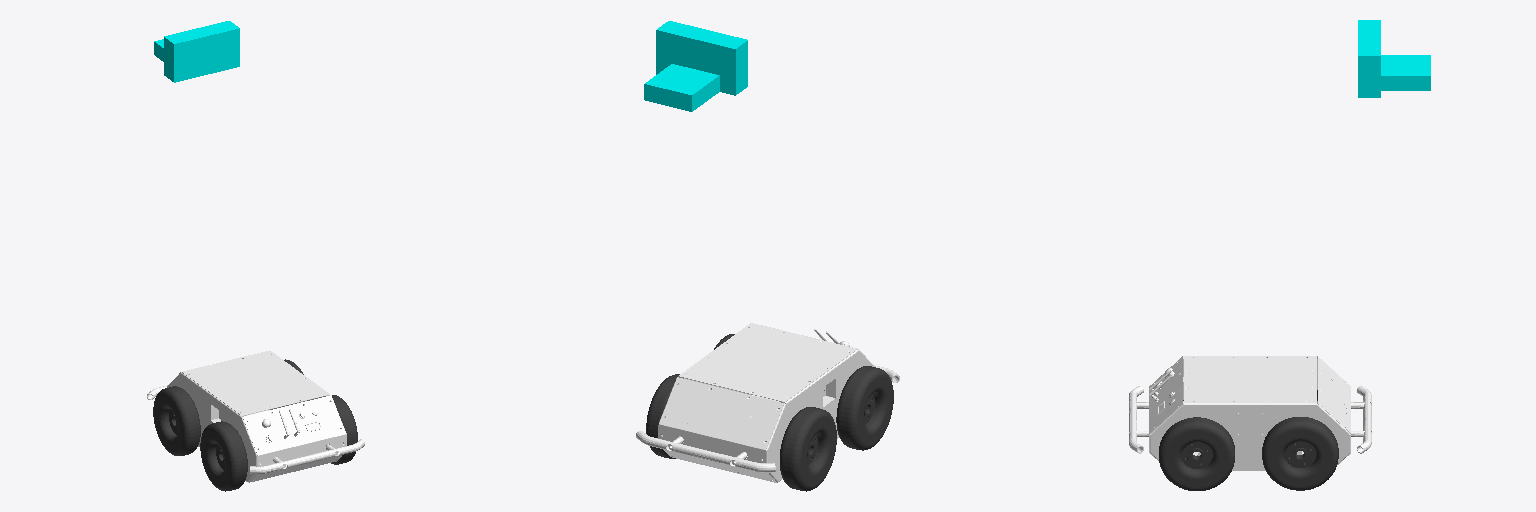
The robot description file, URDF, robot "aubo_i5":
<?xml version="1.0"?>
<robot  name="aubo_i5">
 

  <link name="base_footprint">  
  </link>

  <link name="car_base_link">
    <inertial>
      <origin
        xyz="-0.00210927865415705 -0.260107698526606 0.105086427982548"
        rpy="0 0 0" />
      <mass
        value="1.57357225459974" />
      <inertia
        ixx="0.0312577262111476"
        ixy="1.27984469849575E-05"
        ixz="-0.000122382696795917"
        iyy="0.030599900800728"
        iyz="-1.58703768394668E-05"
        izz="0.0499563374651639" />
    </inertial>
    <visual>
      <origin
        xyz="0 0 0"
        rpy="0 0 0" />
      <geometry>
        <mesh
          filename="package://aubo_description/meshes/car/car_base_link.STL" />
      </geometry>
      <material
        name="">
        <color
          rgba="1 1 1 1" />
      </material>
    </visual>
    <collision>
      <origin
        xyz="0 0 0"
        rpy="0 0 0" />
      <geometry>
        <mesh
          filename="package://aubo_description/meshes/car/car_base_link.STL" />
      </geometry>
    </collision>
  </link>

  <joint name="car_joint" type="fixed">
    <parent link = "base_footprint" />
    <child link = "car_base_link" />
    <origin xyz="0.0 0.24 0.03" rpy="0.0 0.0 0.0" />
  </joint>

  <link name="wheel_left_front_Link">
    <inertial>
      <origin
        xyz="0 0 0"
        rpy="0 0 0" />
      <mass
        value="2.17040011885322" />
      <inertia
        ixx="0.00853160339994296"
        ixy="-1.53519798183805E-19"
        ixz="0"
        iyy="0.0157846368685991"
        iyz="1.11093237939281E-19"
        izz="0.00853160339994296" />
    </inertial>
    <visual>
      <origin
        xyz="0 0 0"
        rpy="0 0 0" />
      <geometry>
        <mesh
          filename="package://aubo_description/meshes/car/wheel_left_front_Link.STL" />
      </geometry>
      <material
        name="">
        <color
          rgba="0.294117647058824 0.294117647058824 0.294117647058824 1" />
      </material>
    </visual>
    <collision>
      <origin
        xyz="0 0 0"
        rpy="0 0 0" />
      <geometry>
        <mesh
          filename="package://aubo_description/meshes/car/wheel_left_front_Link.STL" />
      </geometry>
    </collision>
  </link>
  
  <joint name="wheel_left_front_joint" type="revolute">
    <origin
      xyz="0.04 -0.12 -0.313828"
      rpy="0 0 0" />
    <parent
      link="car_base_link" />
    <child
      link="wheel_left_front_Link" />
    <axis
      xyz="0 0 1" />
    <limit
      lower="0"
      upper="0"
      effort="0"
      velocity="0" />
    <safety_controller
      k_velocity="0" />
  </joint>

  <link name="wheel_left_back_link">
    <inertial>
      <origin
        xyz="0 0.0325348107596733 -1.73472347597681E-18"
        rpy="0 0 0" />
      <mass
        value="2.17040011885322" />
      <inertia
        ixx="0.00853160339994296"
        ixy="3.4447933384136E-20"
        ixz="-4.33680868994202E-19"
        iyy="0.0157846368685991"
        iyz="2.49519540830026E-20"
        izz="0.00853160339994296" />
    </inertial>
    <visual>
      <origin
        xyz="0 0 0"
        rpy="0 0 0" />
      <geometry>
        <mesh
          filename="package://aubo_description/meshes/car/wheel_left_back_link.STL" />
      </geometry>
      <material
        name="">
        <color
          rgba="0.294117647058824 0.294117647058824 0.294117647058824 1" />
      </material>
    </visual>
    <collision>
      <origin
        xyz="0 0 0"
        rpy="0 0 0" />
      <geometry>
        <mesh
          filename="package://aubo_description/meshes/car/wheel_left_back_link.STL" />
      </geometry>
    </collision>
  
  </link>
  
  <joint name="wheel_left_back_joint" type="revolute">
    <origin
      xyz="0.04 -0.43 0.044"
      rpy="0 0 0" />
    <parent
      link="car_base_link" />
    <child
      link="wheel_left_back_link" />
    <axis
      xyz="0 0 1" />
    <limit
      lower="0"
      upper="0"
      effort="0"
      velocity="0" />
    <safety_controller
      k_velocity="0" />
  </joint>
  
  <link name="wheel_right_front_link">
    <inertial>
      <origin
        xyz="5.55111512312578E-17 0.0325348107596733 -2.77555756156289E-17"
        rpy="0 0 0" />
      <mass
        value="2.17040011885322" />
      <inertia
        ixx="0.00853160339994297"
        ixy="2.32882617446588E-20"
        ixz="0"
        iyy="0.0157846368685991"
        iyz="5.99338640108921E-20"
        izz="0.00853160339994297" />
    </inertial>
    <visual>
      <origin
        xyz="0 0 0"
        rpy="0 0 0" />
      <geometry>
        <mesh
          filename="package://aubo_description/meshes/car/wheel_right_front_link.STL" />
      </geometry>
      <material
        name="">
        <color
          rgba="0.294117647058824 0.294117647058824 0.294117647058824 1" />
      </material>
    </visual>
    <collision>
      <origin
        xyz="0 0 0"
        rpy="0 0 0" />
      <geometry>
        <mesh
          filename="package://aubo_description/meshes/car/wheel_right_front_link.STL" />
      </geometry>
    </collision>
  </link>
  
  <joint name="wheel_right_front_joint" type="revolute">
    <origin
      xyz="0.9 -0.12 -0.313828"
      rpy="0 0 0" />
    <parent
      link="car_base_link" />
    <child
      link="wheel_right_front_link" />
    <axis
      xyz="0 0 1" />
    <limit
      lower="0"
      upper="0"
      effort="0"
      velocity="0" />
    <safety_controller
      k_velocity="0" />
  </joint>
  
  <link name="wheel_right_back_link">
    <inertial>
      <origin
        xyz="1.73472347597681E-18 0.0325348107596733 -6.93889390390723E-18"
        rpy="0 0 0" />
      <mass
        value="2.17040011885322" />
      <inertia
        ixx="0.00853160339994297"
        ixy="1.86595686490066E-20"
        ixz="-4.33680868994202E-19"
        iyy="0.0157846368685991"
        iyz="1.87018152407058E-21"
        izz="0.00853160339994297" />
    </inertial>
    <visual>
      <origin
        xyz="0 0 0"
        rpy="0 0 0" />
      <geometry>
        <mesh
          filename="package://aubo_description/meshes/car/wheel_right_back_link.STL" />
      </geometry>
      <material
        name="">
        <color
          rgba="0.294117647058824 0.294117647058824 0.294117647058824 1" />
      </material>
    </visual>
    <collision>
      <origin
        xyz="0 0 0"
        rpy="0 0 0" />
      <geometry>
        <mesh
          filename="package://aubo_description/meshes/car/wheel_right_back_link.STL" />
      </geometry>
    </collision>
  </link>
  
  <joint name="wheel_right_back_joint" type="revolute">
    <origin
      xyz="0.9 -0.43 0.044"
      rpy="0 0 0" />
    <parent
      link="car_base_link" />
    <child
      link="wheel_right_back_link" />
    <axis
      xyz="0 0 1" />
    <limit
      lower="0"
      upper="0"
      effort="0"
      velocity="0" />
    <safety_controller
      k_velocity="0" />
  </joint>
   
  <link name="base_link">
    <inertial>
      <origin xyz="-1.4795E-13 0.0015384 0.020951" rpy="0 0 0" />
      <mass value="0.83419" />
      <inertia ixx="0.0014414" ixy="7.8809E-15" ixz="8.5328E-16" iyy="0.0013542" iyz="-1.4364E-05" izz="0.0024659" />
    </inertial>
    <visual>
      <origin xyz="0 0 0" rpy="0 0 0" />
      <geometry>
        <mesh filename="package://aubo_description/meshes/aubo_i5/visual/base_link.DAE" />
      </geometry>
      <material name="">
        <color rgba="1 1 1 1" />
      </material>
    </visual>
    <collision>
      <origin xyz="0 0 0" rpy="0 0 0" />
      <geometry>
        <mesh filename="package://aubo_description/meshes/aubo_i5/collision/base_link.STL" />
      </geometry>
    </collision>
  </link>

  <joint name="base_link_joint" type="fixed">
    <parent link = "base_footprint" />
    <child link = "base_link" />
    <origin xyz="0.0 0.1 0.26" rpy="0.0 0.0 3.14" />
  </joint>

  <link name="shoulder_Link">
    <inertial>
      <origin xyz="3.2508868974735E-07 0.00534955349296065 -0.00883689325611056" rpy="0 0 0" />
      <mass value="1.57658348693929" />
      <inertia ixx="0.0040640448663128" ixy="0" ixz="0" iyy="0.00392863238466817" iyz="-0.000160151642851425" izz="0.0030869857349184" />
    </inertial>
    <visual>
      <origin xyz="0 0 0" rpy="0 0 0" />
      <geometry>
        <mesh filename="package://aubo_description/meshes/aubo_i5/visual/shoulder_Link.DAE" />
      </geometry>
      <material name="">
        <color rgba="1 1 1 1" />
      </material>
    </visual>
    <collision>
      <origin xyz="0 0 0" rpy="0 0 0" />
      <geometry>
        <mesh filename="package://aubo_description/meshes/aubo_i5/collision/shoulder_Link.STL" />
      </geometry>
    </collision>
  </link>

  <joint name="shoulder_joint" type="revolute">
    <origin xyz="0 0 0.122" rpy="0 0 3.1416" />
    <parent link="base_link" />
    <child link="shoulder_Link" />
    <axis xyz="0 0 1" />
    <limit lower="-3.05" upper="3.05" effort="0" velocity="0" />
  </joint>

  <link name="upperArm_Link">
    <inertial>
      <origin xyz="0.203996646979614 2.01304585036544E-10 0.0127641545395984" rpy="0 0 0" />
      <mass value="4.04175782265494" />
      <inertia ixx="0.00965399211106204" ixy="0" ixz="0" iyy="0.144993869035655" iyz="0" izz="0.142607184038966" />
    </inertial>
    <visual>
      <origin xyz="0 0 0" rpy="0 0 0" />
      <geometry>
        <mesh filename="package://aubo_description/meshes/aubo_i5/visual/upperArm_Link.DAE" />
      </geometry>
      <material name="">
        <color rgba="1 1 1 1" />
      </material>
    </visual>
    <collision>
      <origin xyz="0 0 0" rpy="0 0 0" />
      <geometry>
        <mesh filename="package://aubo_description/meshes/aubo_i5/collision/upperArm_Link.STL" />
      </geometry>
    </collision>
  </link>

  <joint name="upperArm_joint" type="revolute">
    <origin xyz="0 0.1215 0" rpy="-1.5708 -1.5708 0" />
    <parent link="shoulder_Link" />
    <child link="upperArm_Link" />
    <axis xyz="0 0 1" />
    <limit lower="-3.05" upper="3.05" effort="0" velocity="0" />
  </joint>

  <link name="foreArm_Link">
    <inertial>
      <origin xyz="0.188922115560337 6.78882434739072E-07 0.0981026740461557" rpy="0 0 0" />
      <mass  value="2.27145669098343" />
      <inertia ixx="0.00214322284946289" ixy="0" ixz="-0.00073120631553383" iyy="0.0443926090878205" iyz="0" izz="0.0441273797128365" />
    </inertial>
    <visual>
      <origin xyz="0 0 0" rpy="0 0 0" />
      <geometry>
        <mesh filename="package://aubo_description/meshes/aubo_i5/visual/foreArm_Link.DAE" />
      </geometry>
      <material name="">
        <color rgba="1 1 1 1" />
      </material>
    </visual>
    <collision>
      <origin xyz="0 0 0" rpy="0 0 0" />
      <geometry>
        <mesh filename="package://aubo_description/meshes/aubo_i5/collision/foreArm_Link.STL" />
      </geometry>
    </collision>
  </link>

  <joint name="foreArm_joint" type="revolute">
    <origin xyz="0.408 0 0" rpy="-3.1416 -5.1632E-18 -5.459E-16" />
    <parent link="upperArm_Link" />
    <child link="foreArm_Link" />
    <axis xyz="0 0 1" />
    <limit lower="-3.05" upper="3.05" effort="0" velocity="0" />
  </joint>

  <link name="wrist1_Link">
    <inertial>
      <origin xyz="7.54205137428592E-07 0.0062481254331257 -0.00392367464072373" rpy="0 0 0" />
      <mass value="0.500477539188764" />
      <inertia ixx="0.00071194605962081" ixy="0" ixz="0" iyy="0.00040588242872958" iyz="-2.30808694377512E-05" izz="0.000685574004861334" />
    </inertial>
    <visual>
      <origin xyz="0 0 0" rpy="0 0 0" />
      <geometry>
        <mesh filename="package://aubo_description/meshes/aubo_i5/visual/wrist1_Link.DAE" />
      </geometry>
      <material name="">
        <color rgba="1 1 1 1" />
      </material>
    </visual>
    <collision>
      <origin xyz="0 0 0" rpy="0 0 0" />
      <geometry>
        <mesh filename="package://aubo_description/meshes/aubo_i5/collision/wrist1_Link.STL" />
      </geometry>
    </collision>
  </link>

  <joint name="wrist1_joint" type="revolute">
    <origin xyz="0.376 0 0" rpy="3.1416 -1.8323E-15 1.5708" />
    <parent link="foreArm_Link" />
    <child link="wrist1_Link" />
    <axis xyz="0 0 1" />
    <limit lower="-3.05" upper="3.05" effort="0" velocity="0" />
  </joint>

  <link name="wrist2_Link">
    <inertial>
      <origin xyz="-7.54207620578635E-07 -0.00624812542617262 -0.00392367464115684" rpy="0 0 0" />
      <mass value="0.500477539245988" />
      <inertia ixx="0.00071194605981829" ixy="0" ixz="0" iyy="0.000405882428755442" iyz="2.30808694515886E-05" izz="0.000685574005112107" />
    </inertial>
    <visual>
      <origin xyz="0 0 0" rpy="0 0 0" />
      <geometry>
        <mesh filename="package://aubo_description/meshes/aubo_i5/visual/wrist2_Link.DAE" />
      </geometry>
      <material name="">
        <color rgba="1 1 1 1" />
      </material>
    </visual>
    <collision>
      <origin xyz="0 0 0" rpy="0 0 0" />
      <geometry>
        <mesh filename="package://aubo_description/meshes/aubo_i5/collision/wrist2_Link.STL" />
      </geometry>
    </collision>
  </link>

  <joint name="wrist2_joint" type="revolute">
    <origin xyz="0 0.1025 0" rpy="-1.5708 -1.8709E-15 -1.6653E-16" />
    <parent link="wrist1_Link" />
    <child link="wrist2_Link" />
    <axis xyz="0 0 1" />
    <limit lower="-3.05" upper="3.05" effort="0" velocity="0" />
  </joint>

  <link name="wrist3_Link">
    <inertial>
      <origin xyz="3.92048778449938E-10 0.000175788057281467 -0.0213294490706684" rpy="0 0 0" />
      <mass value="0.158309554874285" />
      <inertia ixx="7.31376196034769E-05" ixy="0" ixz="0" iyy="7.19528188876563E-05" iyz="0" izz="0.000108772439051422" />
    </inertial>
    <visual>
      <origin xyz="0 0 0" rpy="0 0 0" />
      <geometry>
        <mesh filename="package://aubo_description/meshes/aubo_i5/visual/wrist3_Link.DAE" />
      </geometry>
      <material name="">
        <color rgba="1 1 1 1" />
      </material>
    </visual>
    <collision>
      <origin xyz="0 0 0" rpy="0 0 0" />
      <geometry>
        <mesh filename="package://aubo_description/meshes/aubo_i5/collision/wrist3_Link.STL" />
      </geometry>
    </collision>
  </link>

  <joint name="wrist3_joint" type="revolute">
    <origin xyz="0 -0.094 0" rpy="1.5708 0 1.7907E-15" />
    <parent link="wrist2_Link" />
    <child link="wrist3_Link" />
    <axis xyz="0 0 1" />
    <limit lower="-3.05" upper="3.05" effort="0" velocity="0" />
  </joint>
 
<!--
  <link name="kinect2_rgb_optical_frame"> 
  </link>

  <joint name="kinect2_rgb_optical_joint" type="fixed">
    <parent link="wrist3_Link" />
    <child link = "kinect2_rgb_optical_frame" />
    <origin xyz="0.0 0.045 0.04" rpy="0 0 0" />
x: -0.0985144309163
  y: 0.0516260371426
  z: -0.0619456838608
rotation: 
  x: -0.0562920821286
  y: 0.100425793367
  z: 0.993348604848
  w: 0.00210018154395

    <axis xyz="0 0 1" /> 
    <limit
      lower="0"
      upper="0"
      effort="0"
      velocity="0" />
    <safety_controller
      k_velocity="0" />
  </joint>-->

  <link name="kinect_camera_link"> 
    <inertial>
      <origin
        xyz="0 0 0"
        rpy="0 0 0" />
      <mass
        value="2.17040011885322" />
      <inertia
        ixx="0.00853160339994296"
        ixy="-1.53519798183805E-19"
        ixz="0"
        iyy="0.0157846368685991"
        iyz="1.11093237939281E-19"
        izz="0.00853160339994296" />
    </inertial>
   <visual>
     <origin xyz="0 0 0" rpy="0 0 0" />
     <geometry>
       <box size="0.25 0.14 0.07" />
     </geometry>
     <material name="Cyan">
       <color rgba="0 1.0 1.0 1.0"/>
     </material>
   </visual> 
   <collision>
     <origin xyz="0 0 0" rpy="0 0 0"/>
     <geometry>
       <box size="0.25 0.14 0.07" />
     </geometry>
   </collision> 
  </link>

 

  <joint name="kinect_camera_joint" type="fixed">
    <origin xyz="0.0 0.045 0.04" rpy="0 0 0" /> 
    <parent link="wrist3_Link" />
    <child link="kinect_camera_link" />
    <axis xyz="0 0 1" /> 
    <limit
      lower="0"
      upper="0"
      effort="0"
      velocity="0" />
    <safety_controller
      k_velocity="0" />
  </joint>  


  <link name="dh_grasp_link">
    <inertial>
      <origin
        xyz="0 0 0"
        rpy="0 0 0" />
      <mass
        value="2.17040011885322" />
      <inertia
        ixx="0.00853160339994296"
        ixy="-1.53519798183805E-19"
        ixz="0"
        iyy="0.0157846368685991"
        iyz="1.11093237939281E-19"
        izz="0.00853160339994296" />
    </inertial> 
   <visual>
     <origin xyz="0 0 0" rpy="0 0 0" />
     <geometry>
       <box size="0.15 0.05 0.15" />
     </geometry>
     <material name="Cyan">
       <color rgba="0 1.0 1.0 1.0"/>
     </material>
   </visual> 
   <collision>
     <origin xyz="0 0 0" rpy="0 0 0"/>
     <geometry>
       <box size="0.15 0.05 0.15" />
     </geometry>
   </collision> 
  </link>

  <joint name="dh_grasp_joint" type="fixed">
    <origin xyz="0.0 -0.045 0.11" rpy="0 0 0" /> 
    <parent link="kinect_camera_link" />
    <child link="dh_grasp_link" />
    <axis xyz="0 0 1" /> 
    <limit
      lower="0"
      upper="0"
      effort="0"
      velocity="0" />
    <safety_controller
      k_velocity="0" />
  </joint> 
 

</robot>

--- Facts derived from the render (not from the file) ---
The picture shows the robot from 3 angles, left to right: view 1: azimuth 30°, elevation 25°; view 2: azimuth 150°, elevation 25°; view 3: azimuth 270°, elevation 25°; orthographic projection.
Robot: aubo_i5 — 15 links, 14 joints (10 revolute, 4 fixed); root link base_footprint; default pose: every joint at zero.
Links seen in each view (by area): view 1: car_base_link, kinect_camera_link, wheel_left_front_Link, wheel_left_back_link, wheel_right_back_link; view 2: car_base_link, kinect_camera_link, wheel_left_back_link, wheel_left_front_Link, dh_grasp_link, wheel_right_front_link; view 3: car_base_link, wheel_right_front_link, wheel_right_back_link, dh_grasp_link, kinect_camera_link.
Link boxes in pixels (box(x1,y1,x2,y2)): car_base_link: box(147, 350, 364, 482); kinect_camera_link: box(164, 21, 239, 82); wheel_left_front_Link: box(153, 386, 200, 455); wheel_left_back_link: box(200, 421, 247, 491); wheel_right_back_link: box(331, 395, 357, 464); car_base_link: box(636, 323, 899, 482); kinect_camera_link: box(656, 21, 747, 95); wheel_left_back_link: box(836, 366, 893, 450); wheel_left_front_Link: box(780, 407, 836, 491); dh_grasp_link: box(644, 64, 719, 111); wheel_right_front_link: box(646, 374, 679, 458); car_base_link: box(1129, 356, 1371, 470); wheel_right_front_link: box(1262, 417, 1338, 490); wheel_right_back_link: box(1159, 417, 1234, 490); dh_grasp_link: box(1381, 55, 1430, 90); kinect_camera_link: box(1358, 20, 1380, 97).
Bounding box of the posed robot: 0.4842 × 0.9073 × 1.4 m (x, y, z).
Meshes: 12 distinct files referenced, 5 mesh visuals loaded (5 binary STL); not drawn: 7 (reference not matched to a file when rendering).